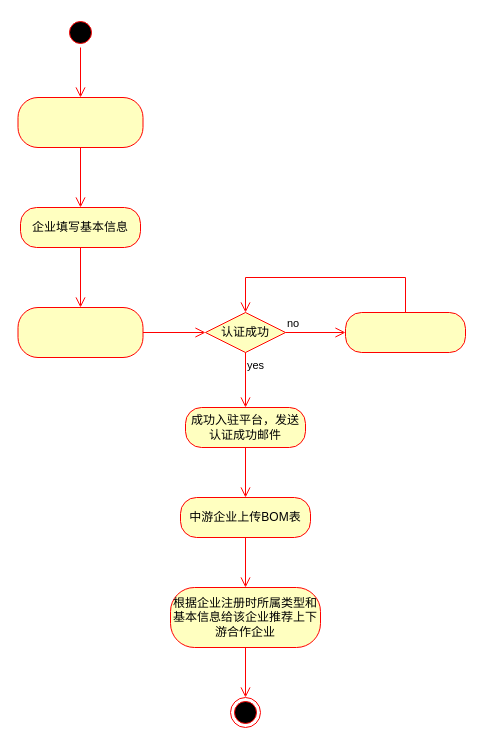
Image size: 483x745. Some labels were removed from this diagram. The box of each missing label's shape, as (x1, y1, x2, y2) in pixels:
上中下游企业选择自己所属的类型进行注册: (17, 96, 143, 148)
企业上传资质证明文件进行资质认证: (17, 306, 143, 358)
重新上传证明文件: (344, 312, 466, 352)
